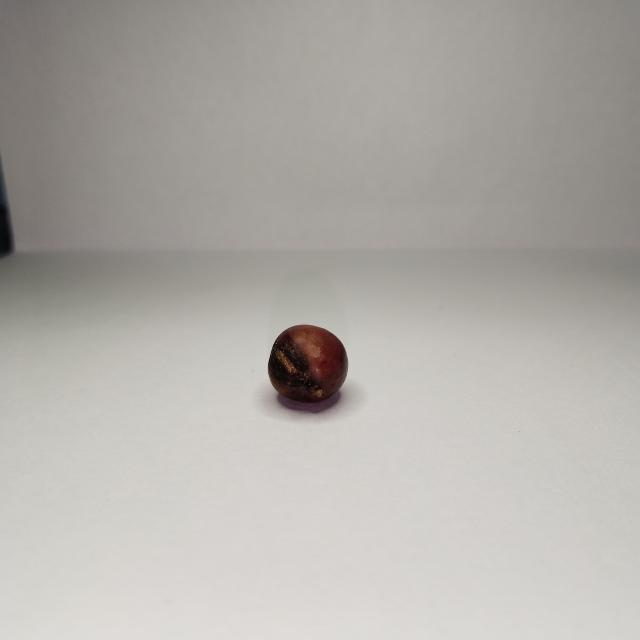Infectado: (269, 325, 348, 408)
